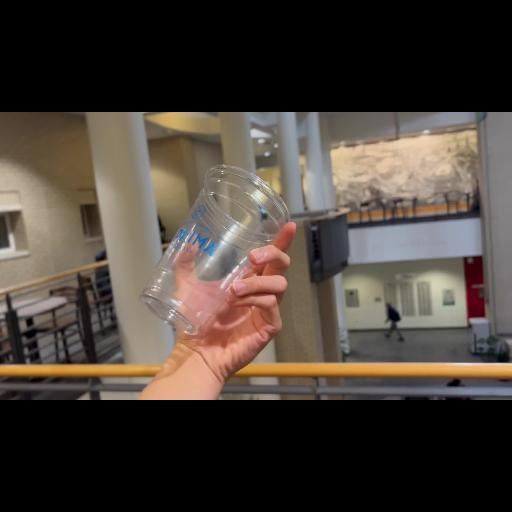lp_plastic_cup: (144, 172, 282, 334)
